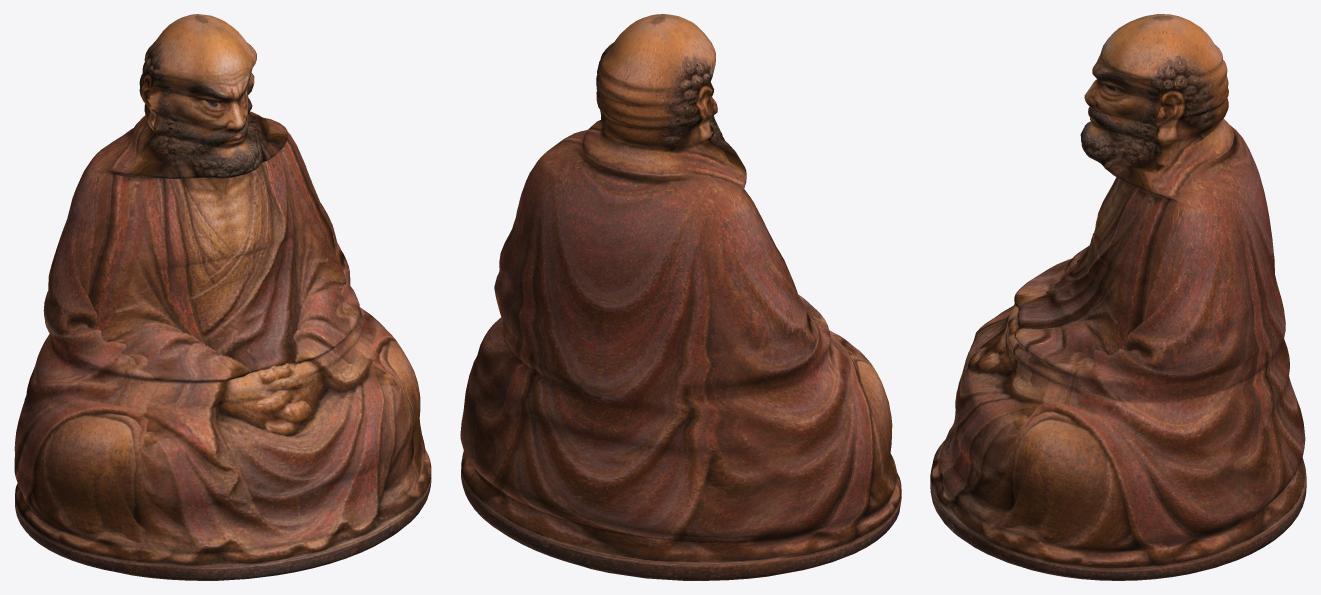
The model's file is shaolin-damo.glb.
The picture shows the model from 3 angles, left to right: view 1: azimuth 30°, elevation 25°; view 2: azimuth 150°, elevation 25°; view 3: azimuth 270°, elevation 25°; orthographic projection. The views are drawn at different scales.
Parts seen in each view (by area): view 1: damo; view 2: damo; view 3: damo.
Boxes of the visible parts, bbox=[...] form: damo: bbox=[14, 14, 431, 580]; damo: bbox=[460, 14, 901, 580]; damo: bbox=[930, 14, 1306, 580].
Bounding box in the file's own units: 1.38 × 1.66 × 1.18.
1 material, 1 textured.
